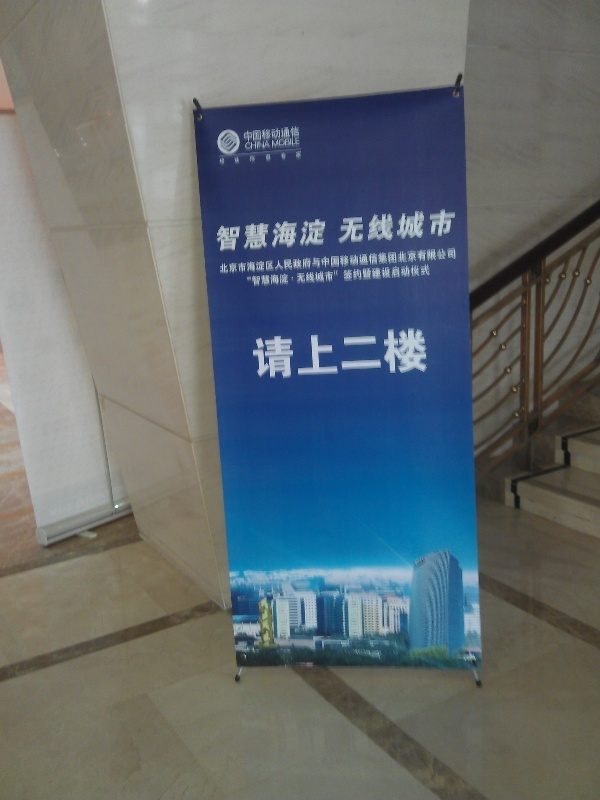text: (257, 327, 272, 381), (273, 327, 288, 381), (289, 327, 304, 381), (305, 327, 320, 381), (321, 327, 336, 381), (337, 327, 352, 381), (353, 327, 368, 381), (369, 327, 384, 381), (385, 327, 400, 381), (401, 327, 416, 381), (417, 327, 432, 381), (225, 218, 240, 254), (241, 218, 256, 254), (257, 218, 272, 254), (273, 218, 288, 254), (289, 218, 304, 254), (305, 218, 320, 254), (337, 208, 352, 244), (353, 208, 368, 244), (369, 208, 384, 244), (385, 208, 400, 244), (401, 208, 416, 244), (417, 208, 432, 244), (433, 208, 448, 244), (225, 248, 240, 274), (241, 248, 256, 274), (257, 248, 272, 274), (273, 248, 288, 274), (289, 248, 304, 274), (305, 248, 320, 274), (321, 248, 336, 274), (337, 248, 352, 274), (353, 248, 368, 274), (369, 248, 384, 274), (385, 248, 400, 274), (401, 248, 416, 274), (417, 248, 432, 274), (433, 248, 448, 274), (249, 327, 256, 381), (257, 265, 272, 288), (273, 265, 288, 288), (289, 265, 304, 288), (305, 265, 320, 288), (321, 265, 336, 288), (337, 265, 352, 288), (353, 265, 368, 288), (369, 265, 384, 288), (385, 265, 400, 288), (401, 265, 416, 288), (417, 265, 432, 288), (449, 208, 458, 244), (216, 218, 224, 254), (245, 265, 256, 288), (321, 218, 328, 254), (257, 126, 272, 142), (273, 126, 288, 142), (449, 248, 458, 274), (225, 150, 240, 165), (241, 150, 256, 165), (257, 150, 272, 165), (273, 150, 288, 165), (289, 150, 303, 165), (244, 126, 256, 142), (289, 126, 301, 142), (273, 137, 288, 149), (289, 137, 301, 149), (257, 140, 271, 150), (219, 248, 224, 274), (246, 140, 256, 150), (219, 150, 224, 165), (433, 327, 434, 381), (271, 137, 272, 149)
